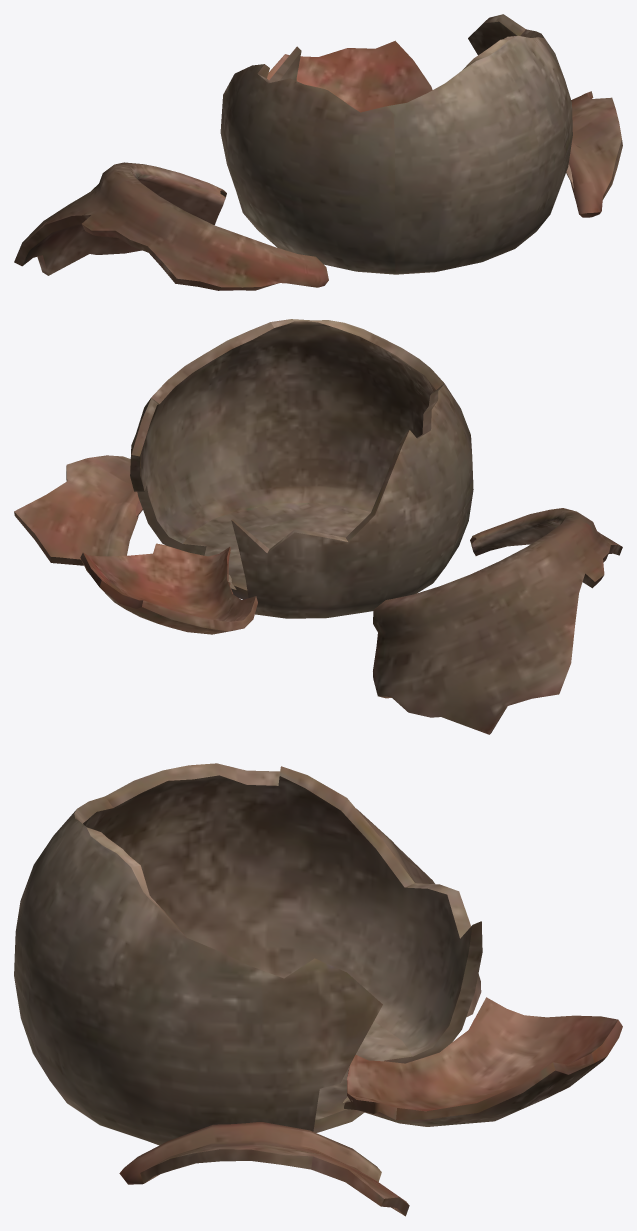
3 views of the same model, one above another, from view 1: azimuth 30°, elevation 25°; view 2: azimuth 150°, elevation 25°; view 3: azimuth 270°, elevation 25° (orthographic). The views are drawn at different scales.
Visible parts, largest first — view 1: SM_Pot_03_Dmg_LOD0; view 2: SM_Pot_03_Dmg_LOD0; view 3: SM_Pot_03_Dmg_LOD0.
Boxes of the visible parts, <box> form: SM_Pot_03_Dmg_LOD0: <box>14,14,622,290</box>; SM_Pot_03_Dmg_LOD0: <box>14,319,622,734</box>; SM_Pot_03_Dmg_LOD0: <box>14,763,622,1216</box>.
Size of the model in its own units: 0.6637 by 0.2778 by 0.4584.
Materials: 1 (1 with a texture image).
